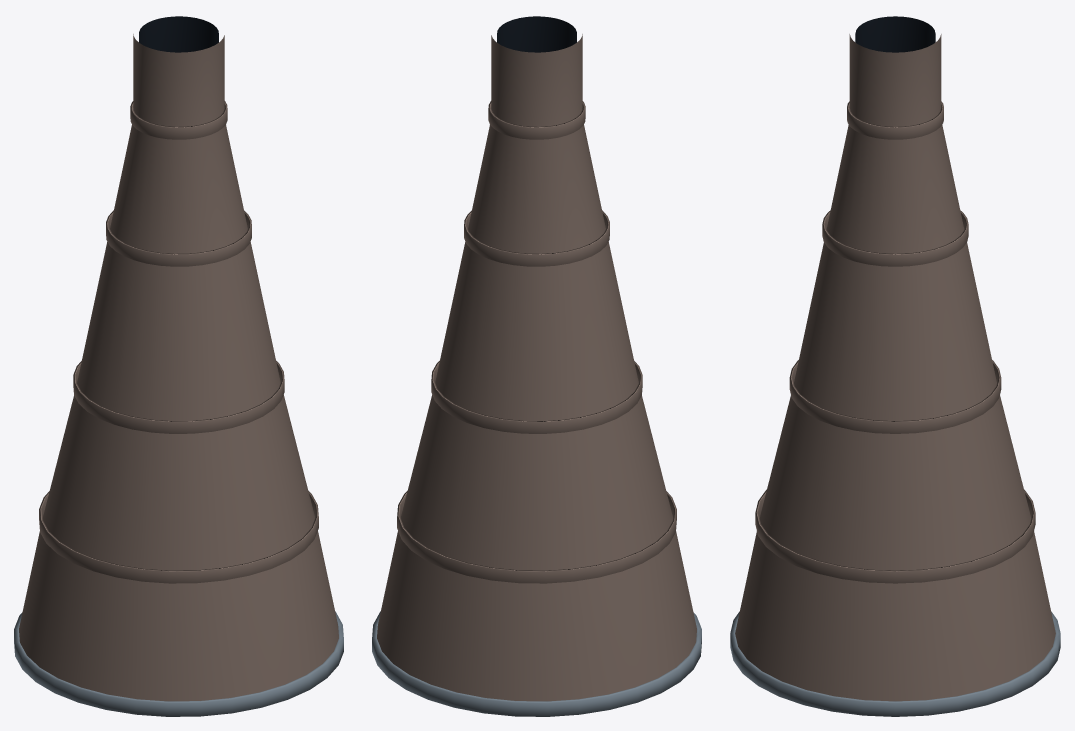
File: atlas_v_centaur.rl10_01.glb
3 renders of one model, left to right at view 1: azimuth 30°, elevation 25°; view 2: azimuth 150°, elevation 25°; view 3: azimuth 270°, elevation 25°, orthographic.
Visible parts, largest first — view 1: atlas_v_centaur.rl10_01.bell.mesh_Heat-stained_alloy, atlas_v_centaur.rl10_01.bell.mesh_Machined_steel, atlas_v_centaur.rl10_01.bell.mesh_Shadowed_interior; view 2: atlas_v_centaur.rl10_01.bell.mesh_Heat-stained_alloy, atlas_v_centaur.rl10_01.bell.mesh_Machined_steel, atlas_v_centaur.rl10_01.bell.mesh_Shadowed_interior; view 3: atlas_v_centaur.rl10_01.bell.mesh_Heat-stained_alloy, atlas_v_centaur.rl10_01.bell.mesh_Machined_steel, atlas_v_centaur.rl10_01.bell.mesh_Shadowed_interior.
Part boxes in pixels (x1,y1,x2,y2): atlas_v_centaur.rl10_01.bell.mesh_Heat-stained_alloy: (19, 34, 338, 701); atlas_v_centaur.rl10_01.bell.mesh_Machined_steel: (14, 611, 343, 716); atlas_v_centaur.rl10_01.bell.mesh_Shadowed_interior: (139, 16, 218, 52); atlas_v_centaur.rl10_01.bell.mesh_Heat-stained_alloy: (377, 34, 696, 701); atlas_v_centaur.rl10_01.bell.mesh_Machined_steel: (372, 611, 701, 716); atlas_v_centaur.rl10_01.bell.mesh_Shadowed_interior: (497, 16, 576, 52); atlas_v_centaur.rl10_01.bell.mesh_Heat-stained_alloy: (735, 34, 1055, 701); atlas_v_centaur.rl10_01.bell.mesh_Machined_steel: (730, 611, 1060, 716); atlas_v_centaur.rl10_01.bell.mesh_Shadowed_interior: (855, 16, 935, 52).
Size of the model in its own units: 1.73 by 3.54 by 1.73.
